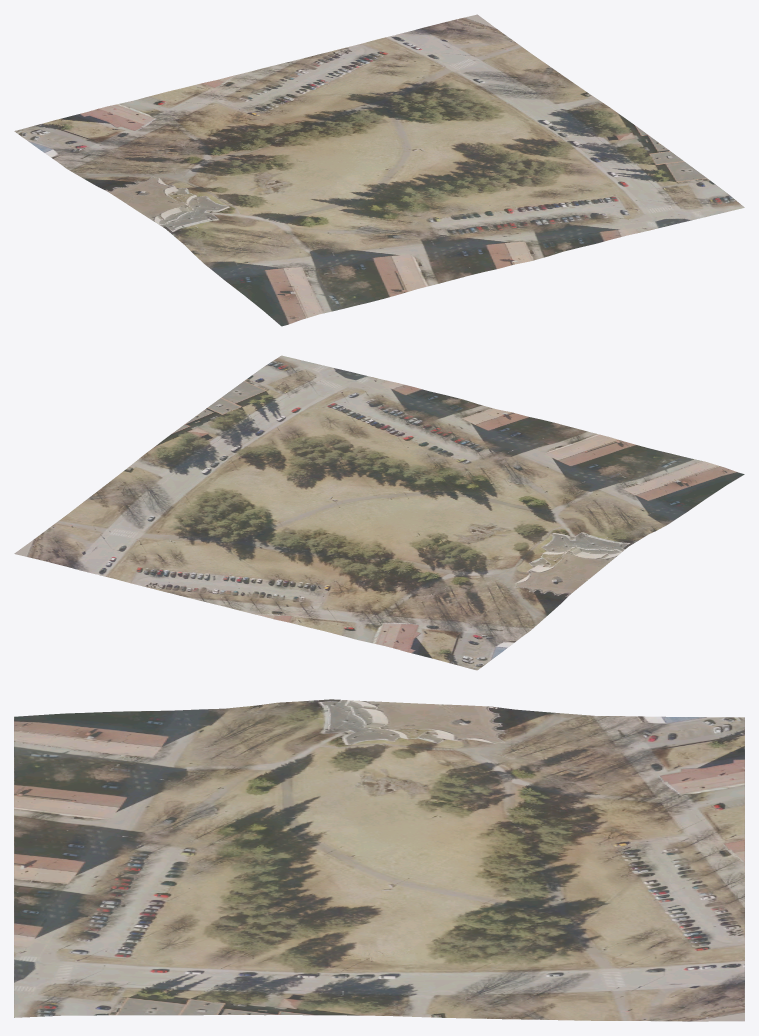
Rendered from CM_Terrain_24489025_6821022.fbx.
The picture shows the model from 3 angles, top to bottom: view 1: azimuth 30°, elevation 25°; view 2: azimuth 150°, elevation 25°; view 3: azimuth 270°, elevation 25°; orthographic projection. The views are drawn at different scales.
Parts seen in each view (by area): view 1: CM_Terrain_24489025_6821022_LOD0; view 2: CM_Terrain_24489025_6821022_LOD0; view 3: CM_Terrain_24489025_6821022_LOD0.
Boxes of the visible parts, <box> form: CM_Terrain_24489025_6821022_LOD0: <box>14,14,744,326</box>; CM_Terrain_24489025_6821022_LOD0: <box>14,355,744,670</box>; CM_Terrain_24489025_6821022_LOD0: <box>14,699,744,1021</box>.
Size of what is drawn, in the model's own units: 205 by 6.12 by 205.
